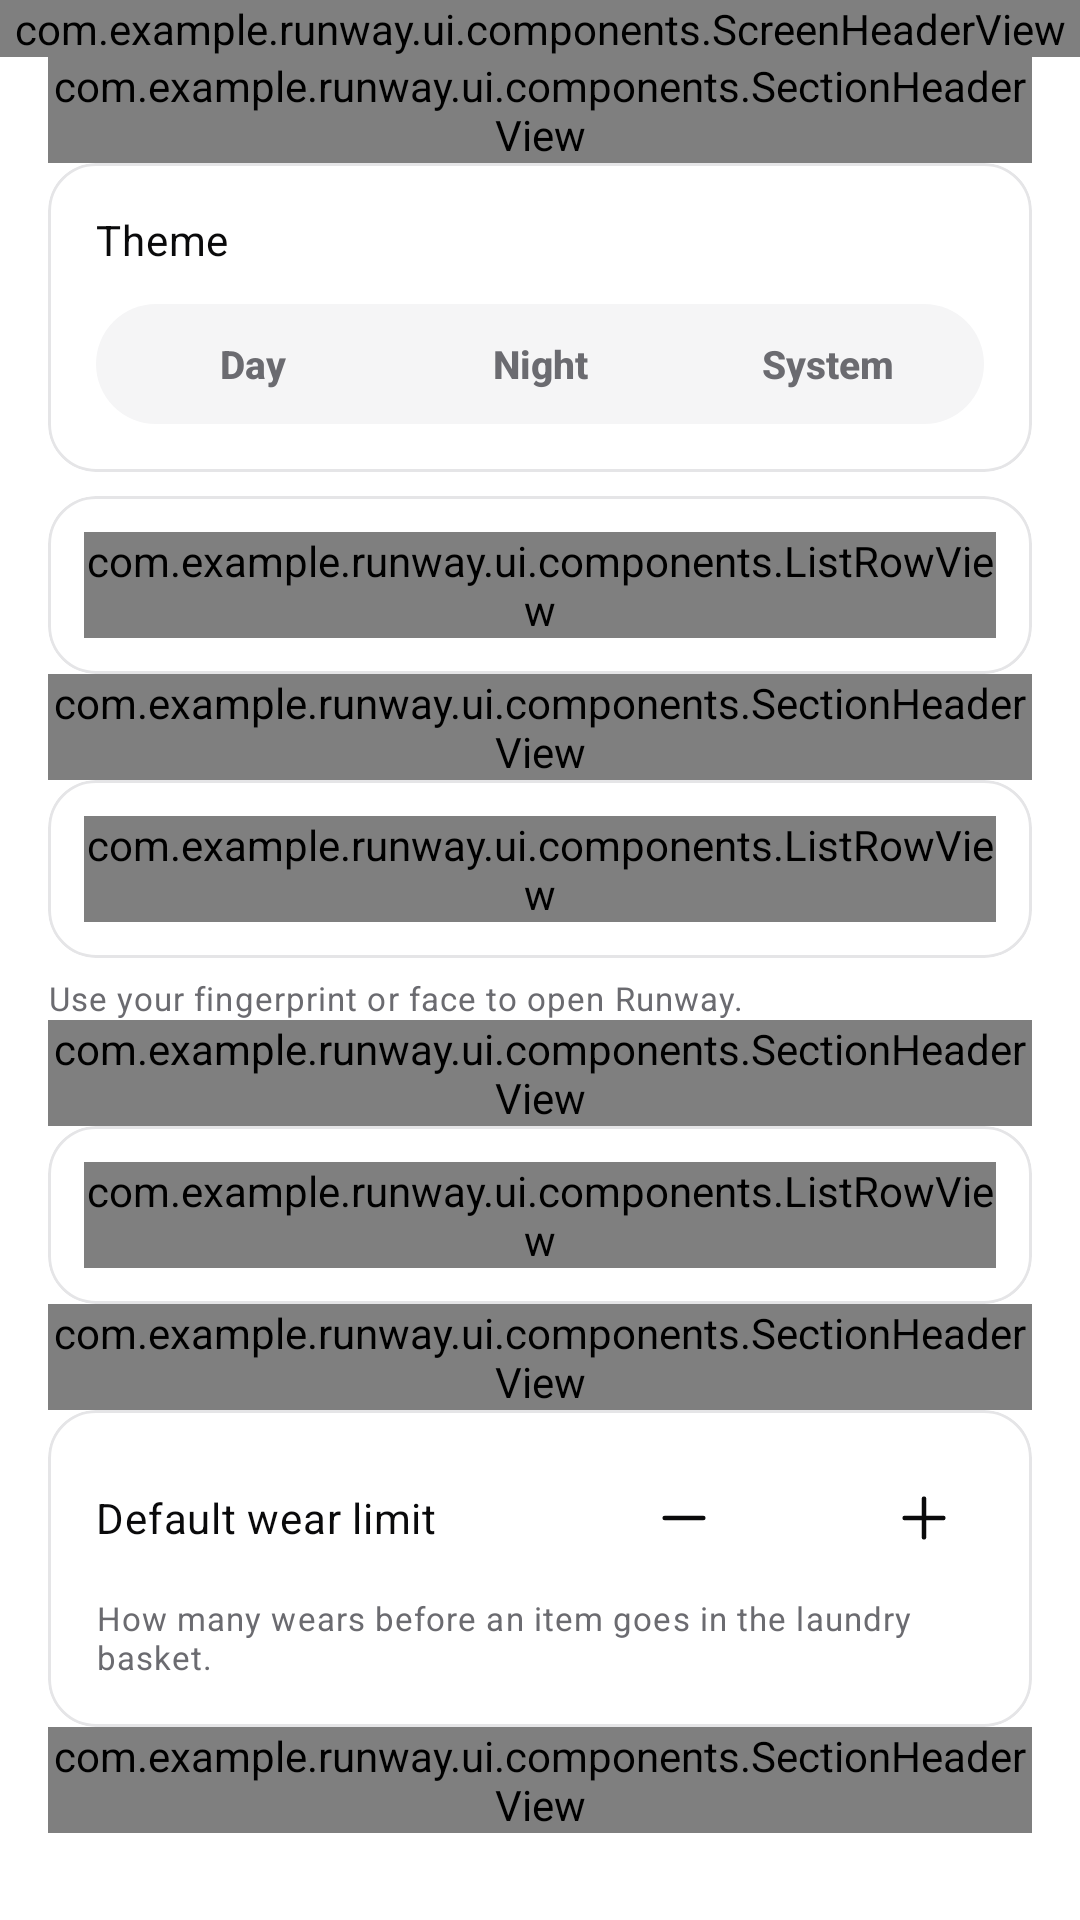

Point at icon controls on the screen. Image size 1080x1920, points as (x=x, y=y).
Increase wear limit: (x=924, y=1518)
